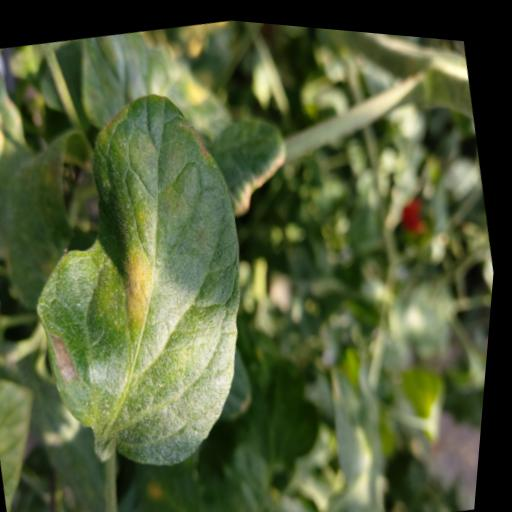Leaf Mold: (0, 65, 296, 494)
